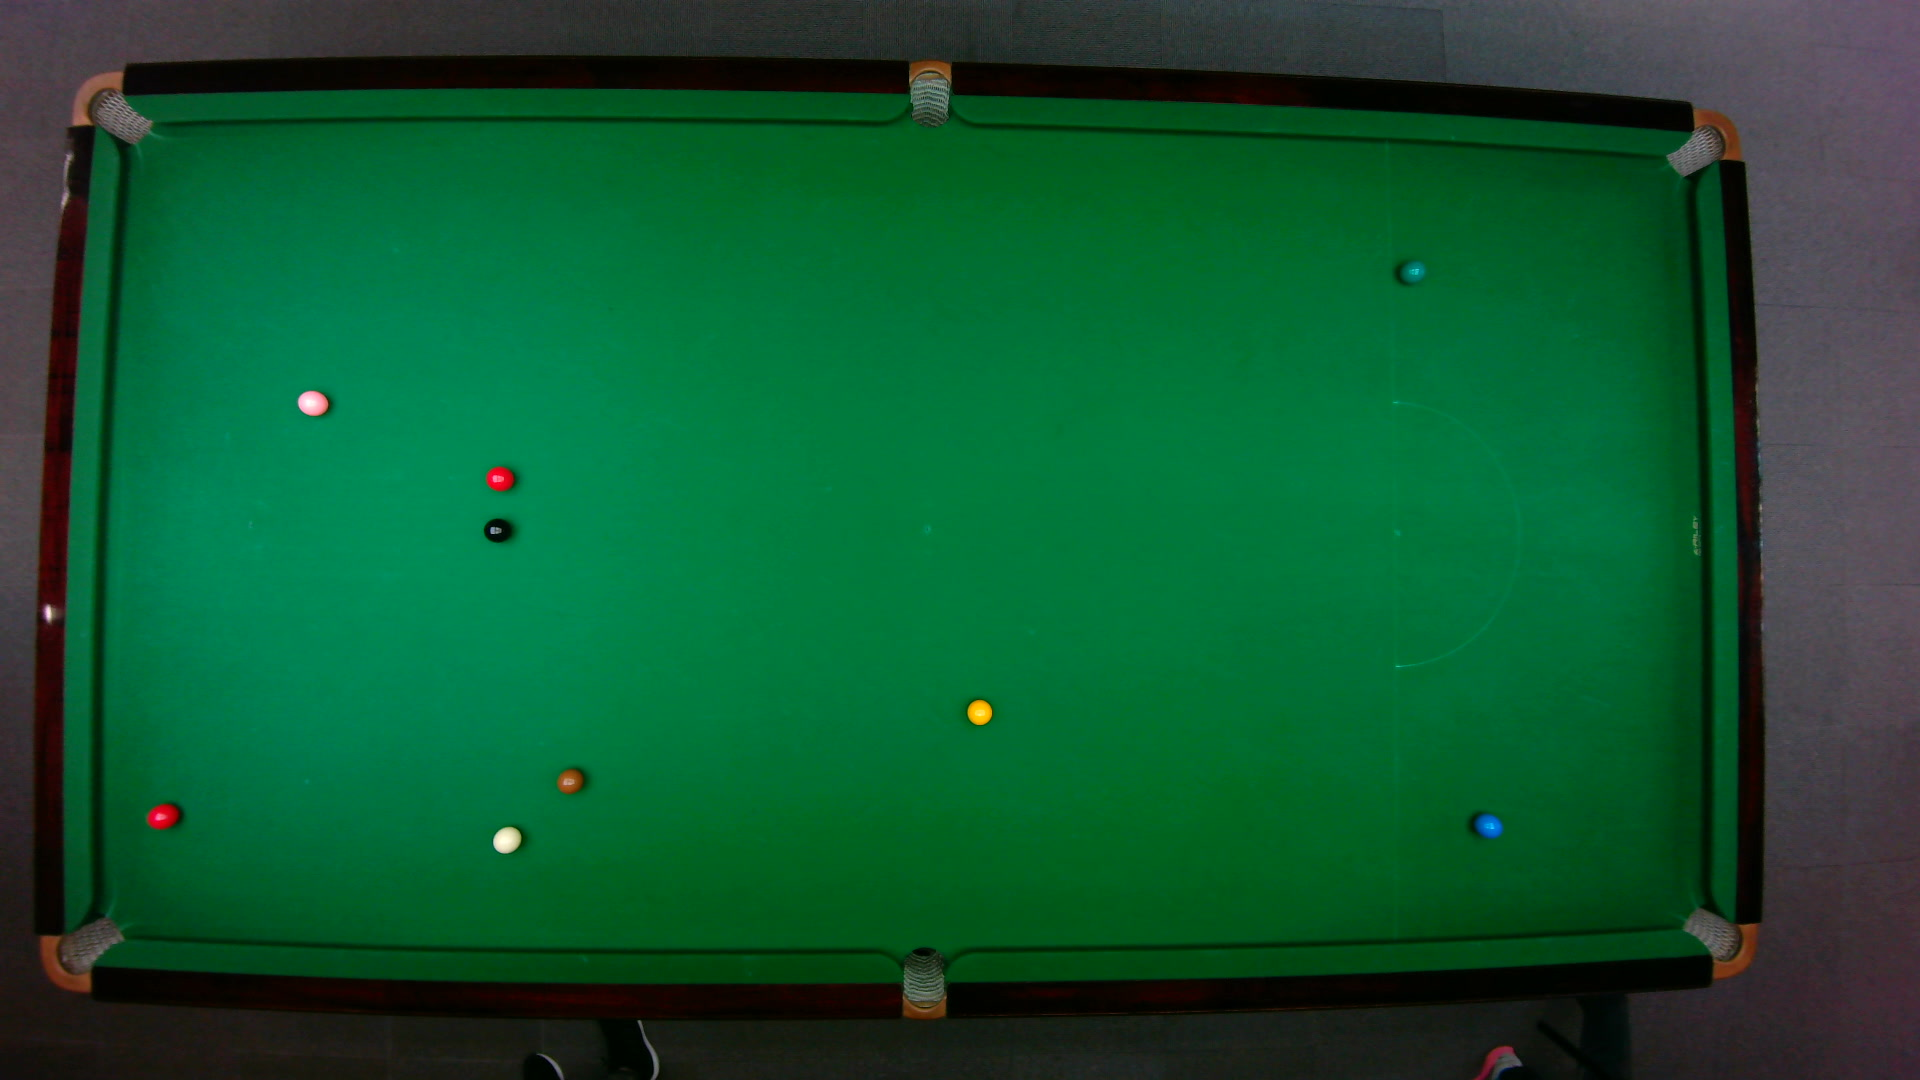bag: (36, 913, 127, 992), (69, 69, 153, 145), (1677, 905, 1756, 978), (1663, 107, 1741, 177), (901, 944, 944, 1021), (909, 55, 949, 128)
black: (481, 516, 512, 542)
blue: (1472, 811, 1503, 839)
brown: (555, 766, 584, 794)
green: (1396, 257, 1425, 284)
pink: (295, 386, 328, 415)
red: (144, 800, 179, 829), (483, 464, 514, 491)
white: (491, 824, 522, 855)
yellow: (964, 698, 993, 727)
zone: (1390, 400, 1520, 669)
